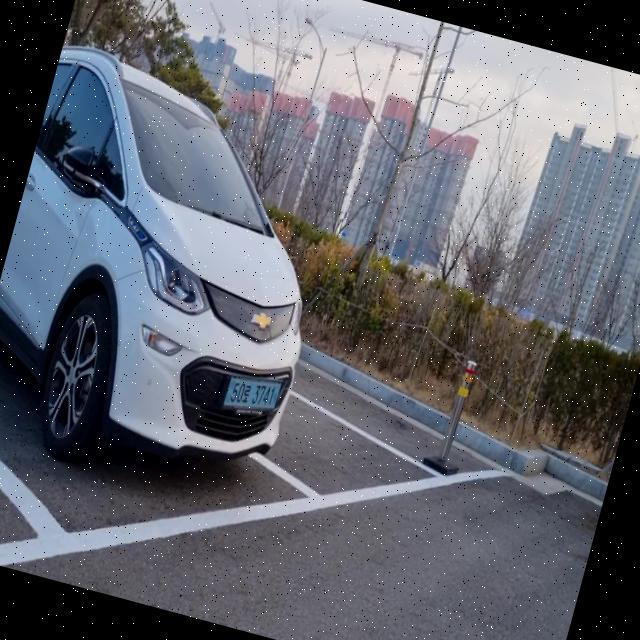empty: (254, 367, 453, 547)
occupied: (0, 50, 379, 582)
